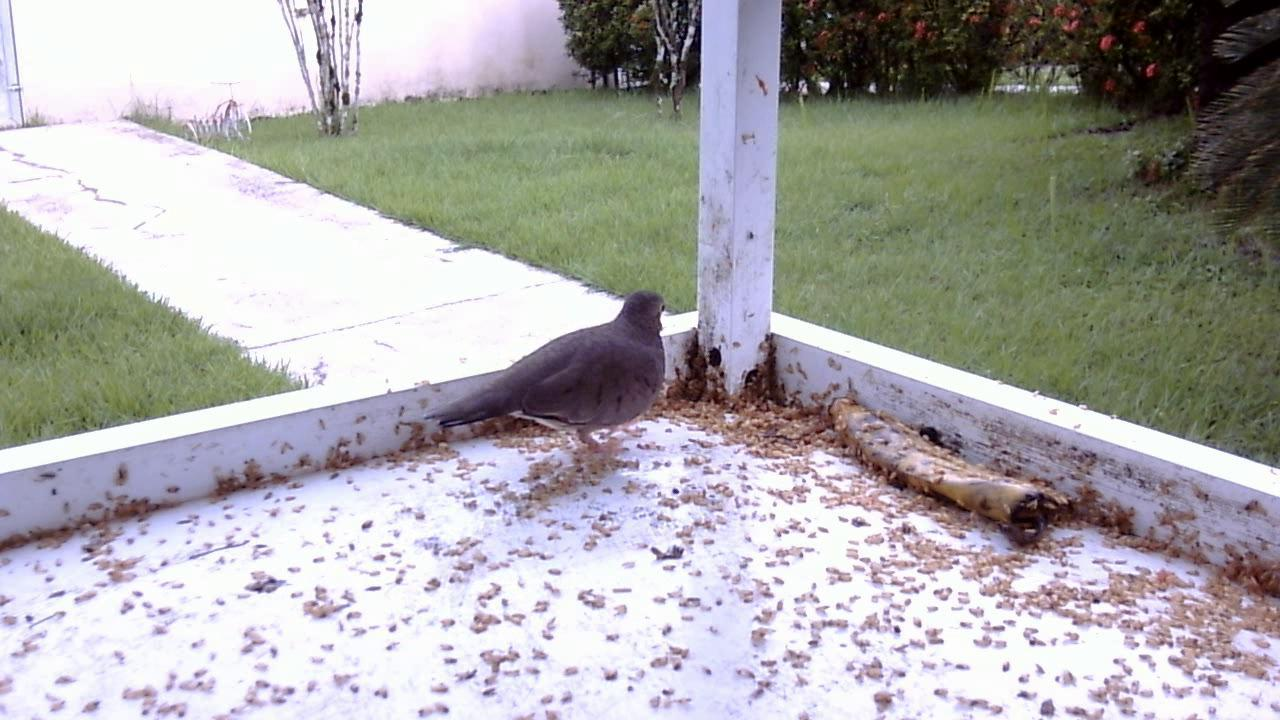rolinha: (424, 282, 679, 449)
